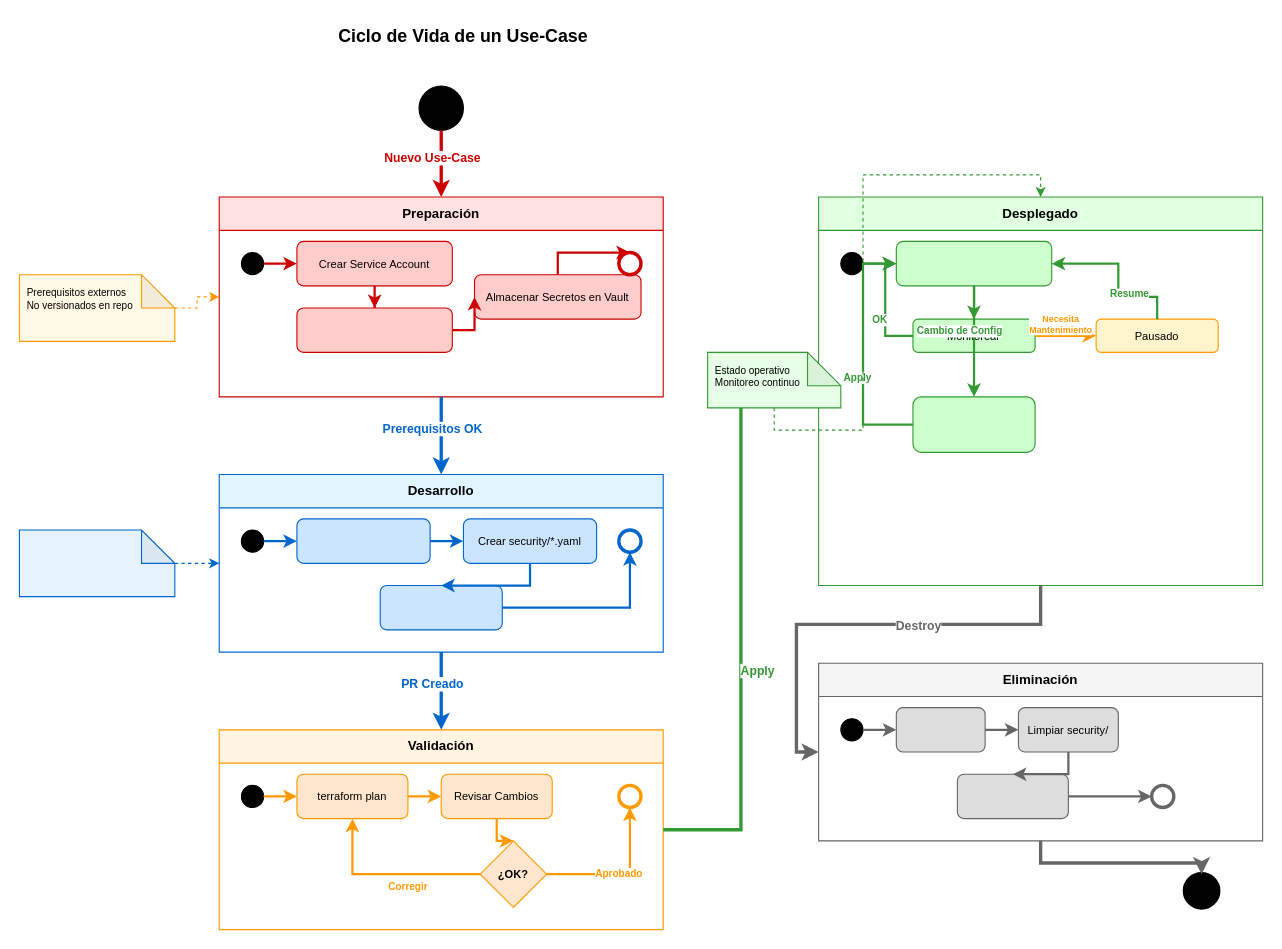
This 1282x949 diagram has some shape labels left out. Here are the shapes that lost their labels. From the top down, the centre of each, then its label:
(x=973, y=263): Conectores RUNNING
(x=374, y=329): Crear Topics + DLQ
(x=973, y=424): Actualización Cambio de Config
(x=363, y=540): Crear connects/*.yaml
(x=96, y=563): Archivos YAML versionados Pull Request requerido
(x=440, y=607): Commit + Push
(x=940, y=729): Borrar YAML
(x=1012, y=796): terraform destroy
